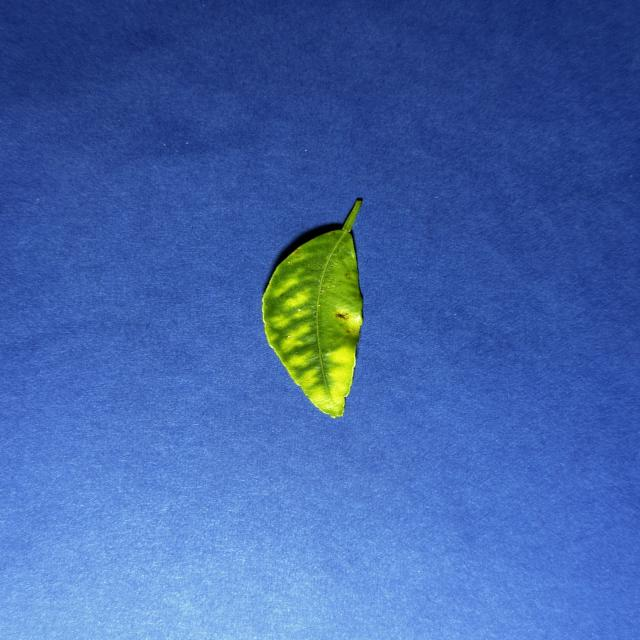greening: (262, 199, 362, 418)
